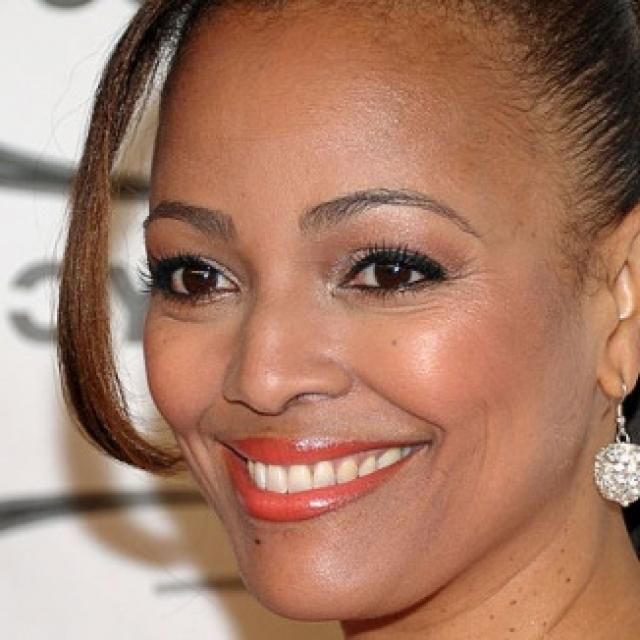Normal: (139, 5, 597, 618)
